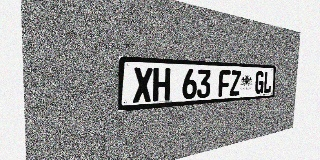3: (197, 69, 211, 98)
6: (182, 69, 197, 99)
F: (218, 70, 231, 97)
G: (255, 71, 264, 94)
H: (153, 68, 171, 102)
L: (263, 71, 272, 93)
X: (133, 67, 153, 103)
Z: (230, 70, 241, 96)
